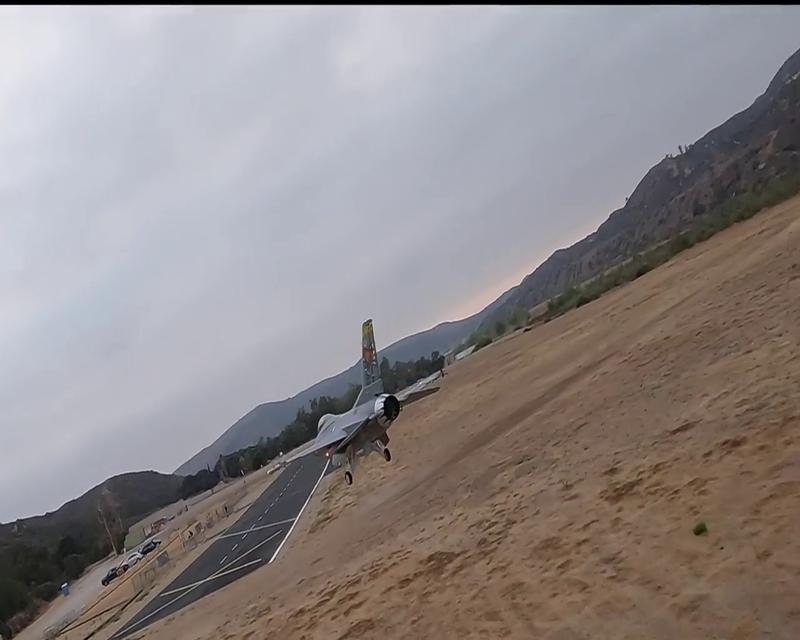UAV: (262, 316, 445, 486)
